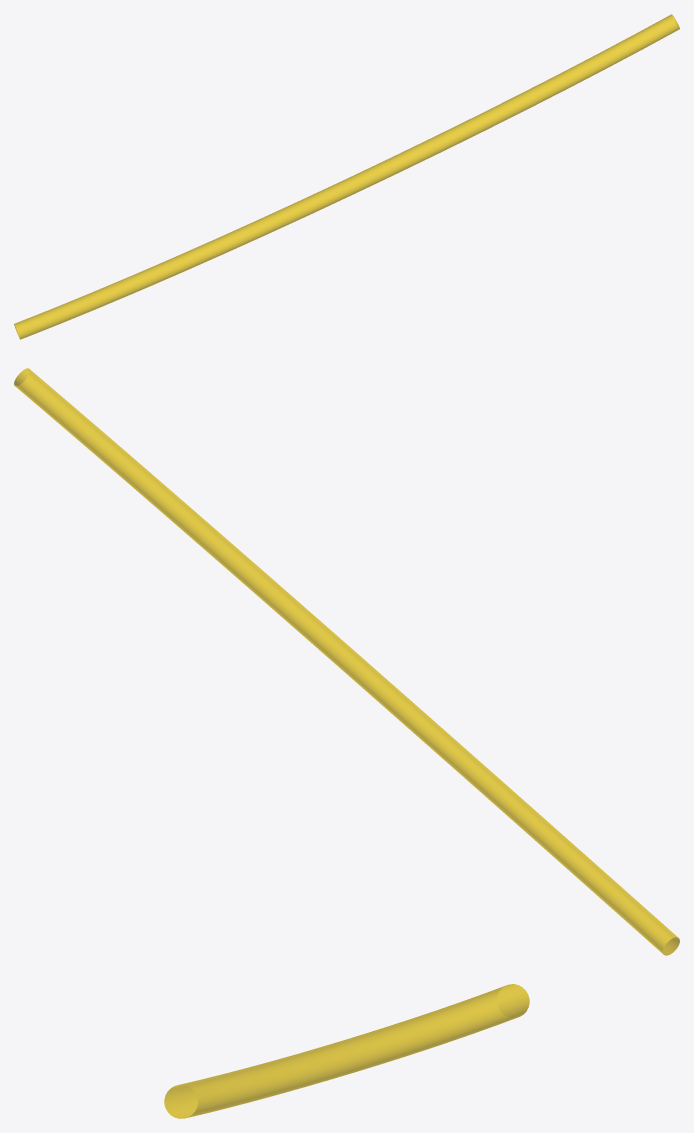
File: Event_31209032_track_15.fbx
3 views of the same model, one above another, from view 1: azimuth 30°, elevation 25°; view 2: azimuth 150°, elevation 25°; view 3: azimuth 270°, elevation 25° (orthographic). The views are drawn at different scales.
Parts seen in each view (by area): view 1: Model; view 2: Model; view 3: Model.
Part boxes in pixels (x1=…): Model: x1=14, y1=14, x2=679, y2=339; Model: x1=14, y1=368, x2=679, y2=955; Model: x1=164, y1=984, x2=529, y2=1118.
Size of the model in its own units: 1.57 by 0.6315 by 0.4265.
